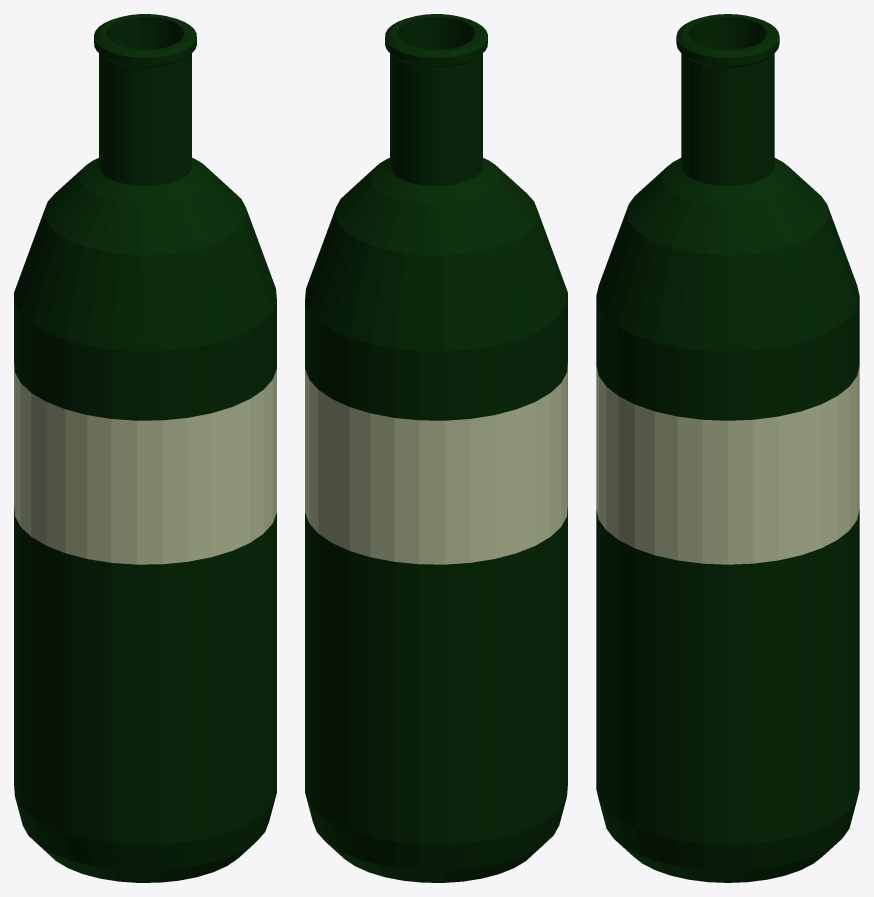
File: Bouteille.fbx
3 views of the same model, side by side, from view 1: azimuth 30°, elevation 25°; view 2: azimuth 150°, elevation 25°; view 3: azimuth 270°, elevation 25° (orthographic).
Parts seen in each view (by area): view 1: Cylinder; view 2: Cylinder; view 3: Cylinder.
Boxes of the visible parts, left/top/right/bottom form: Cylinder: left=14, top=14, right=276, bottom=882; Cylinder: left=305, top=14, right=567, bottom=882; Cylinder: left=596, top=14, right=859, bottom=882.
Size of the model in its own units: 1693 by 5720 by 1693.
